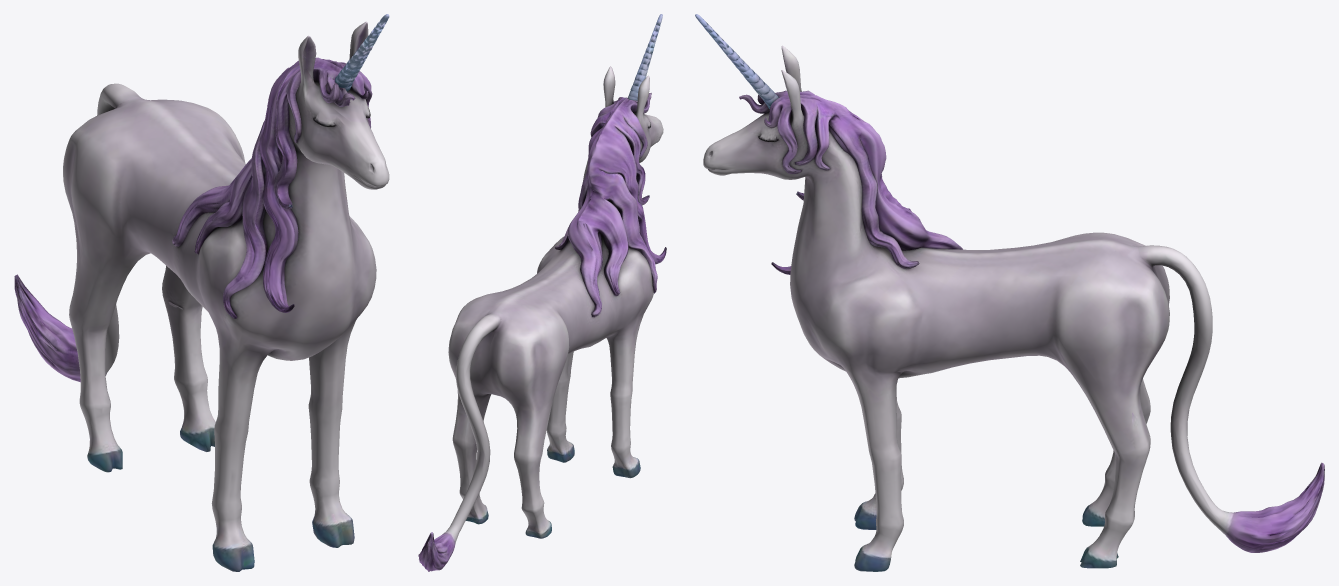
The model's file is MZ4250 - Unicorn.glb.
The picture shows the model from 3 angles, left to right: view 1: azimuth 30°, elevation 25°; view 2: azimuth 150°, elevation 25°; view 3: azimuth 270°, elevation 25°; orthographic projection. The views are drawn at different scales.
Parts seen in each view (by area): view 1: ORGANIC BASE SPHERE.002; view 2: ORGANIC BASE SPHERE.002; view 3: ORGANIC BASE SPHERE.002.
Part boxes in pixels (x1,y1,x2,y2): ORGANIC BASE SPHERE.002: (14, 14, 389, 571); ORGANIC BASE SPHERE.002: (418, 14, 666, 571); ORGANIC BASE SPHERE.002: (695, 14, 1324, 571).
Size of the model in its own units: 0.4165 by 1.58 by 1.7.
1 material, 1 textured.
